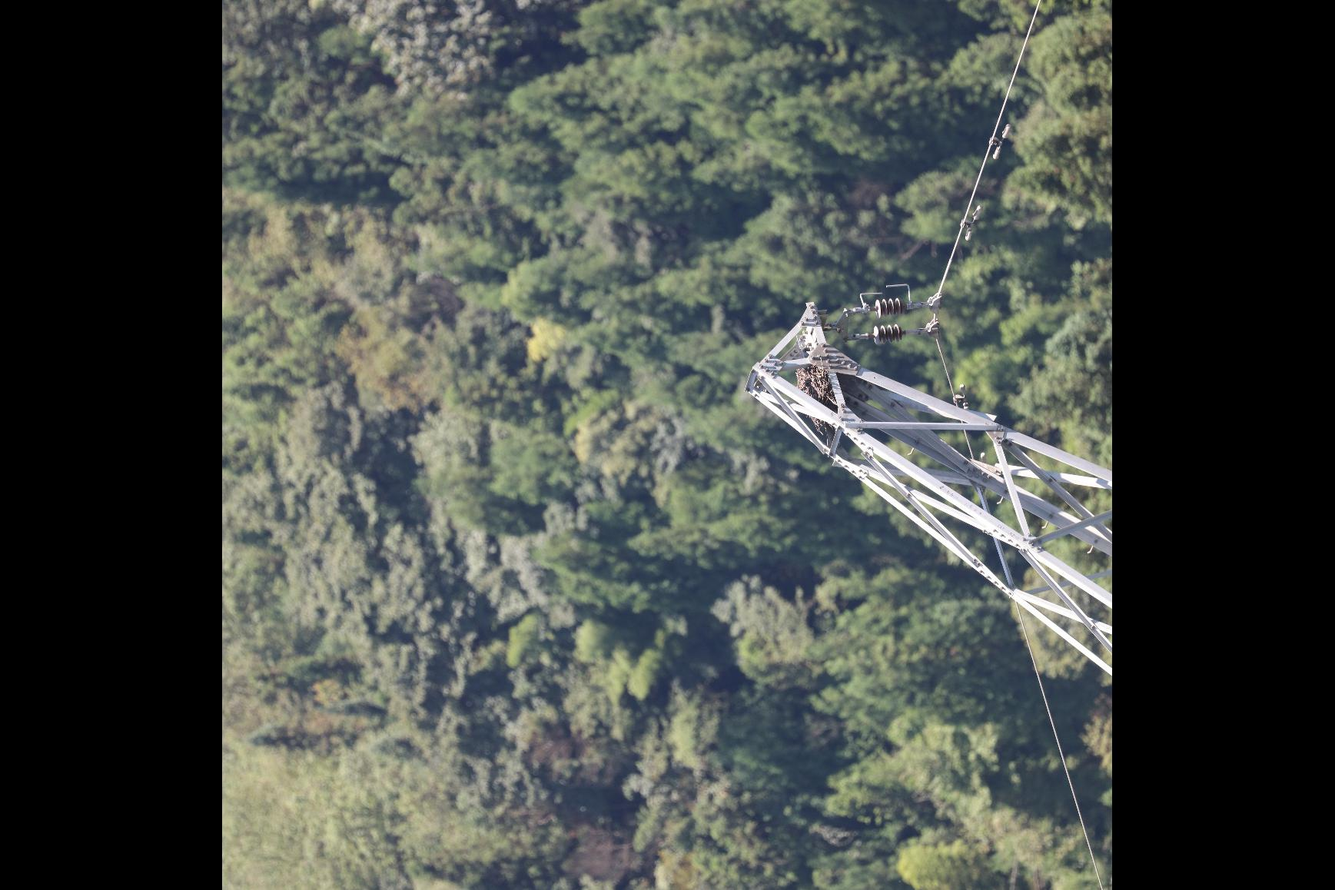damper: (961, 202, 985, 243), (990, 121, 1014, 161)
nest: (794, 363, 835, 404)
